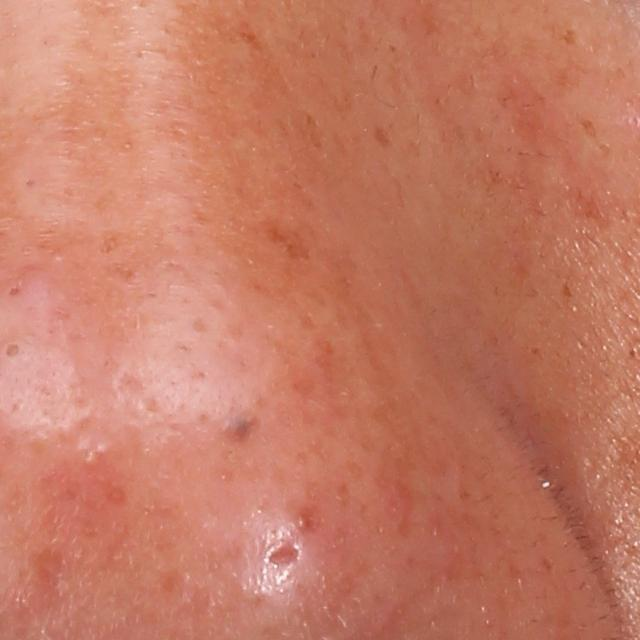atrophic_scar: (30, 545, 65, 615), (260, 536, 303, 570)
melasma: (260, 213, 318, 266), (302, 108, 326, 152), (373, 124, 395, 153), (561, 26, 579, 45)
nevus: (220, 406, 255, 446)
